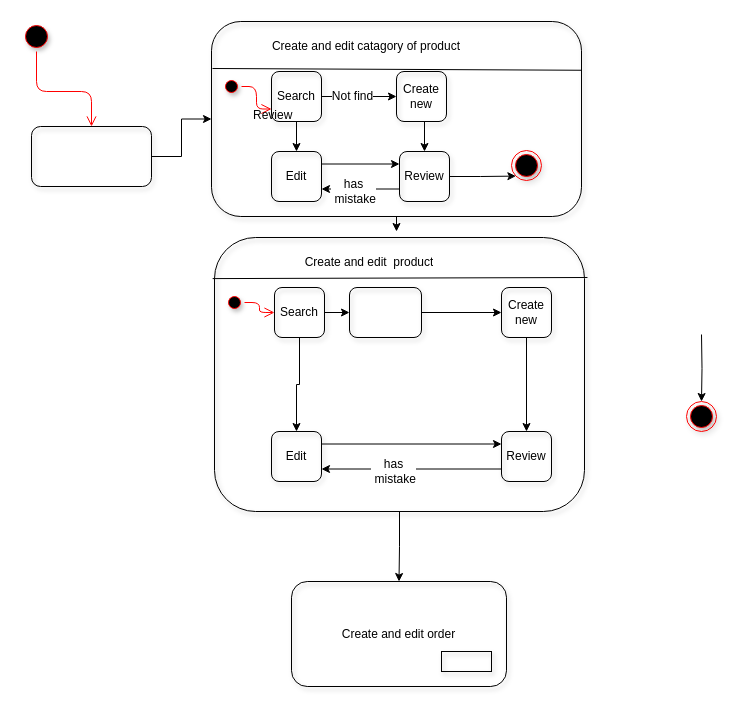
Some shapes in this 740 by 711 pixel diagram are drawn without their labels. Here are the shapes that lost their labels. From the top down, the centre of each, then its label:
the point at 92,158: Run program
the point at 386,313: Find catagory of product
